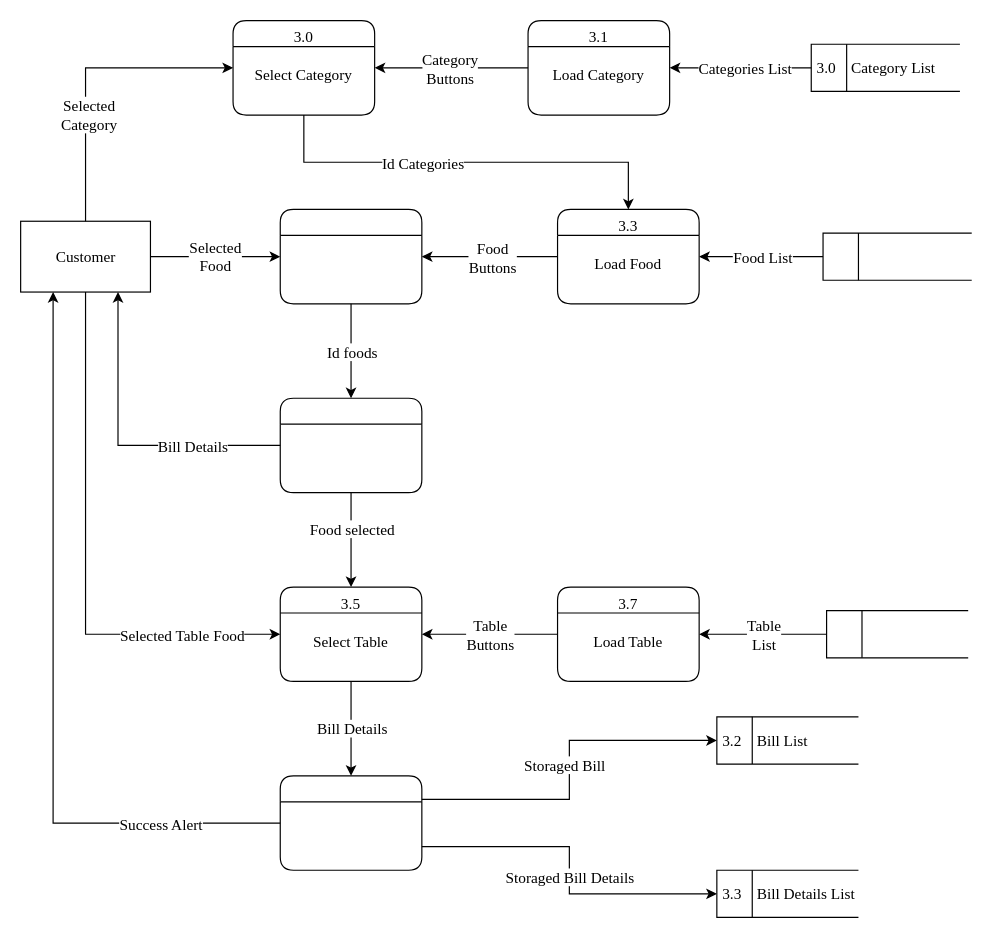
The diagram is 992 pixels wide and 938 high, and some of its shapes have lost their labels. The shapes that lost their labels are listed below. From the top down, each one's centre as x and y in pixels, then its label:
[350,256]: 3.2 Select Foods
[897,256]: 3.1 Food List
[350,445]: 3.4 Create Bill
[896,633]: 3.4 Table List
[350,822]: 3.6 Pay Bill
